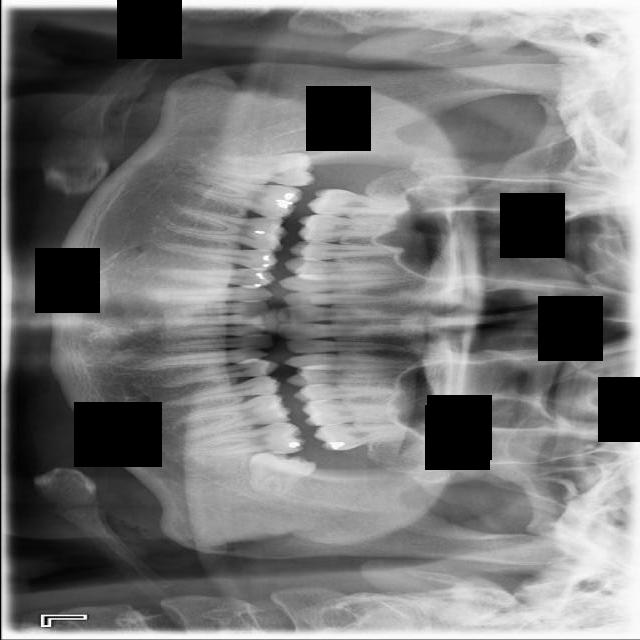52: (256, 176, 306, 229), (244, 209, 290, 258), (259, 416, 307, 460), (314, 424, 359, 450), (240, 246, 278, 273), (238, 268, 275, 288)
73: (40, 598, 48, 601)
BioHorizons Implant: (312, 421, 426, 451)
Biomet 3i Implant: (241, 444, 319, 507)
Blue Sky Bio Implant: (189, 421, 306, 460)
Caries: (307, 188, 421, 216)
Implant: (187, 172, 305, 223)
Keystone Dental Implant: (220, 152, 316, 187)
